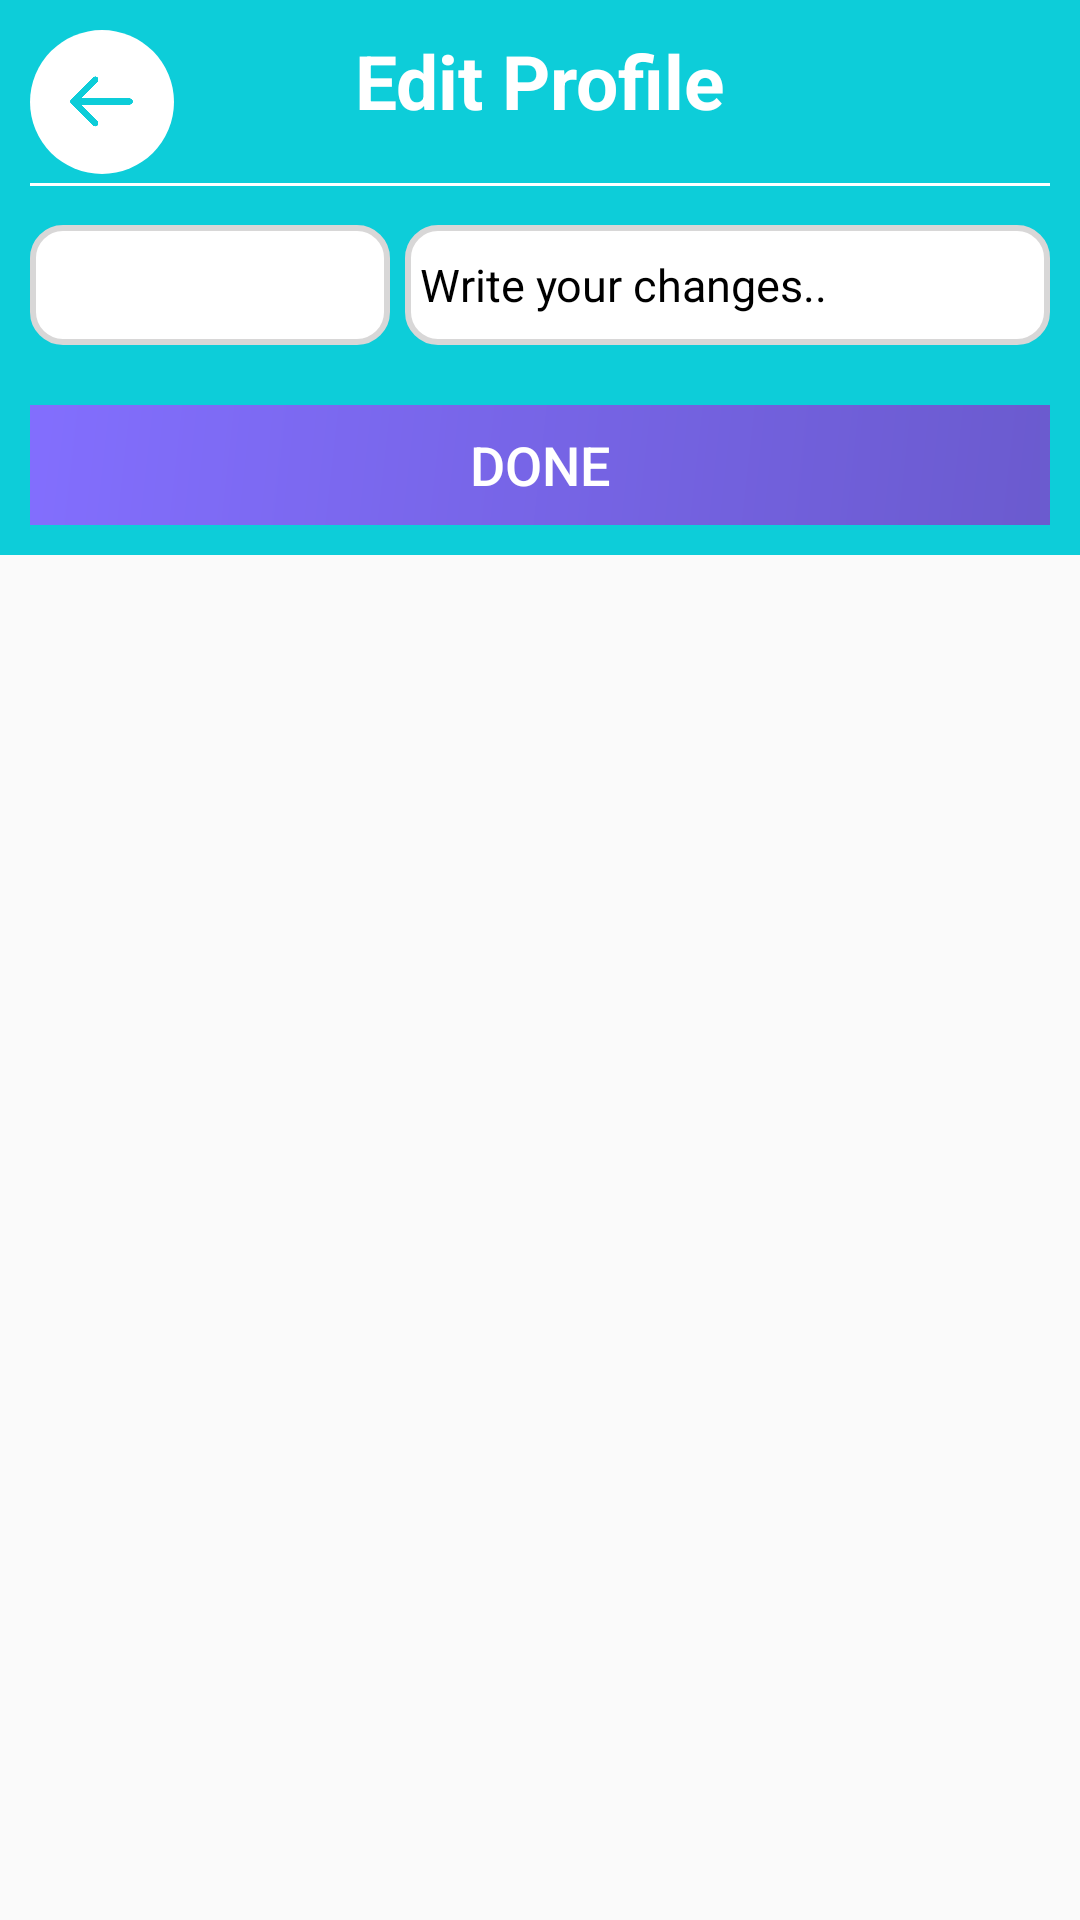

Where icons sit on this 1080px×1920px app screen, as [left=x1, top=y1, right=x2, bottom=y2]:
Back: [left=30, top=30, right=174, bottom=174]
